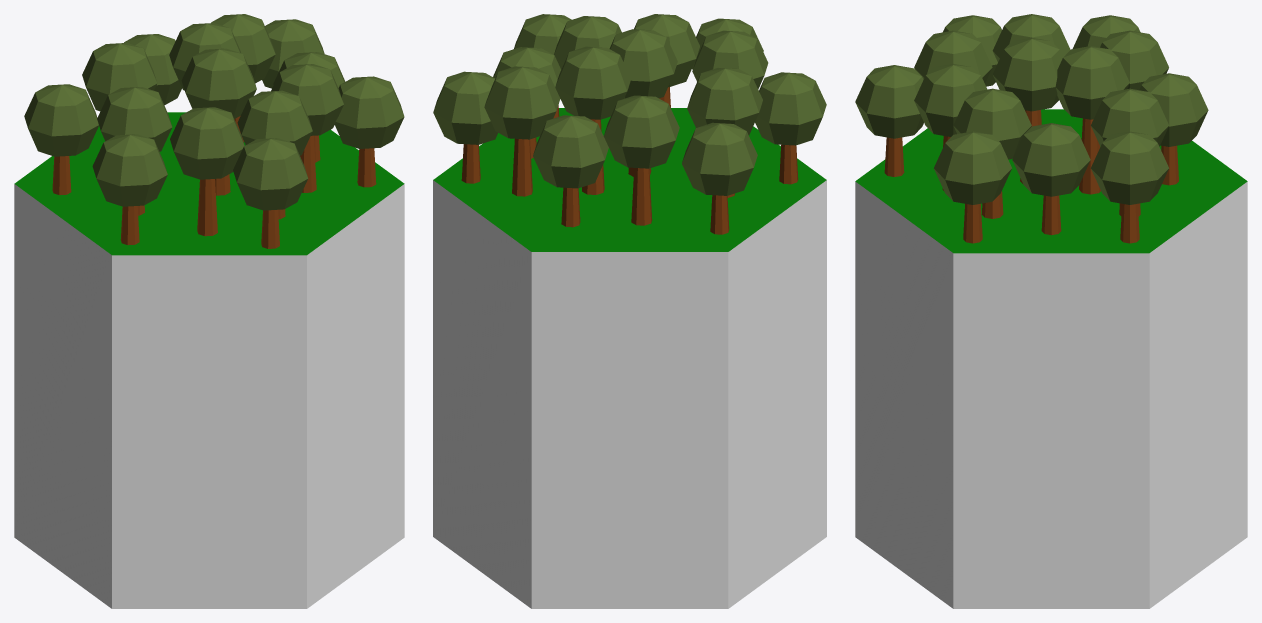
The model's file is HexCellForest.fbx.
3 renders of one model, left to right at view 1: azimuth 30°, elevation 25°; view 2: azimuth 150°, elevation 25°; view 3: azimuth 270°, elevation 25°, orthographic.
Visible parts, largest first — view 1: Circle; view 2: Circle; view 3: Circle.
Part boxes in pixels (x1,y1,x2,y2): Circle: (14,14,404,608); Circle: (433,14,826,608); Circle: (855,14,1247,608).
Bounding box in the file's own units: 180 × 280 × 200.
